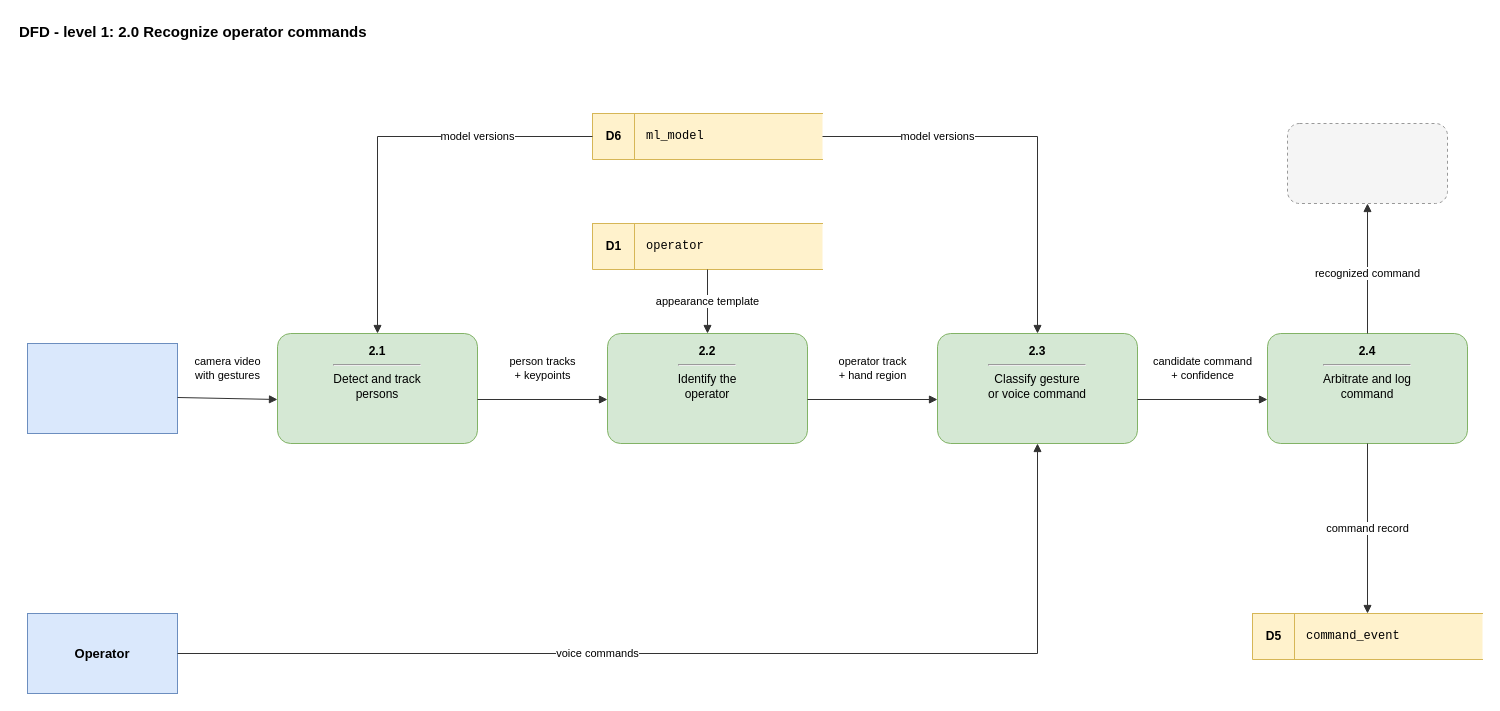
The diagram is 1500 pixels wide and 711 high, and some of its shapes have lost their labels. Each missing label, with the centre of its shape:
"3.0 Control drone flight" belongs at point (1367, 163).
"Drone (flight controller + camera)" belongs at point (102, 388).
